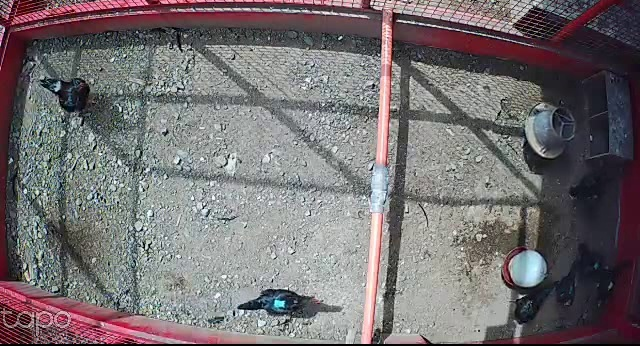Chicken: (237, 285, 315, 321), (509, 281, 559, 328), (550, 260, 581, 313)
Drinker: (501, 245, 552, 291)
Feeder: (525, 100, 577, 160)
Rooster: (38, 75, 99, 115)
Saddle_Color_Blue: (275, 298, 286, 310)
